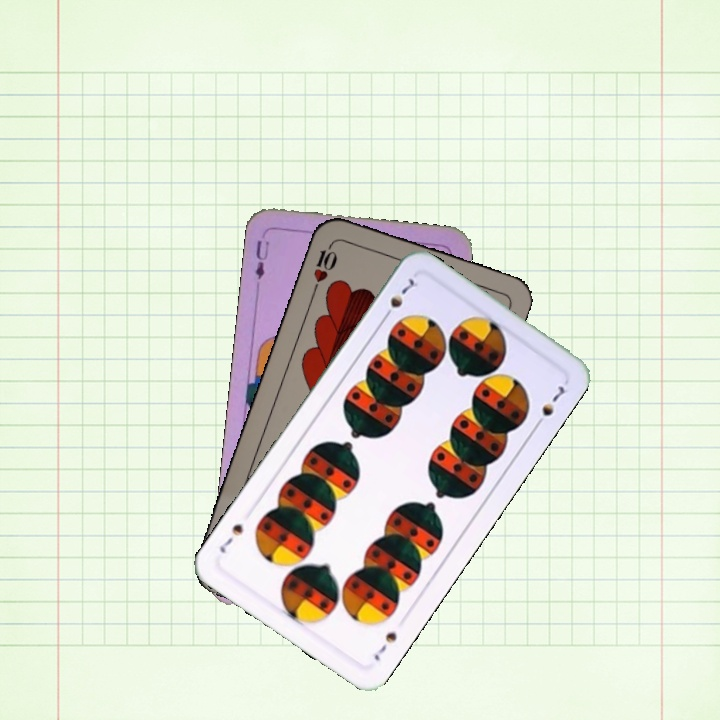EU: (251, 236, 272, 282)
H10: (309, 237, 340, 295)
S7: (378, 274, 421, 323), (369, 627, 400, 664)
